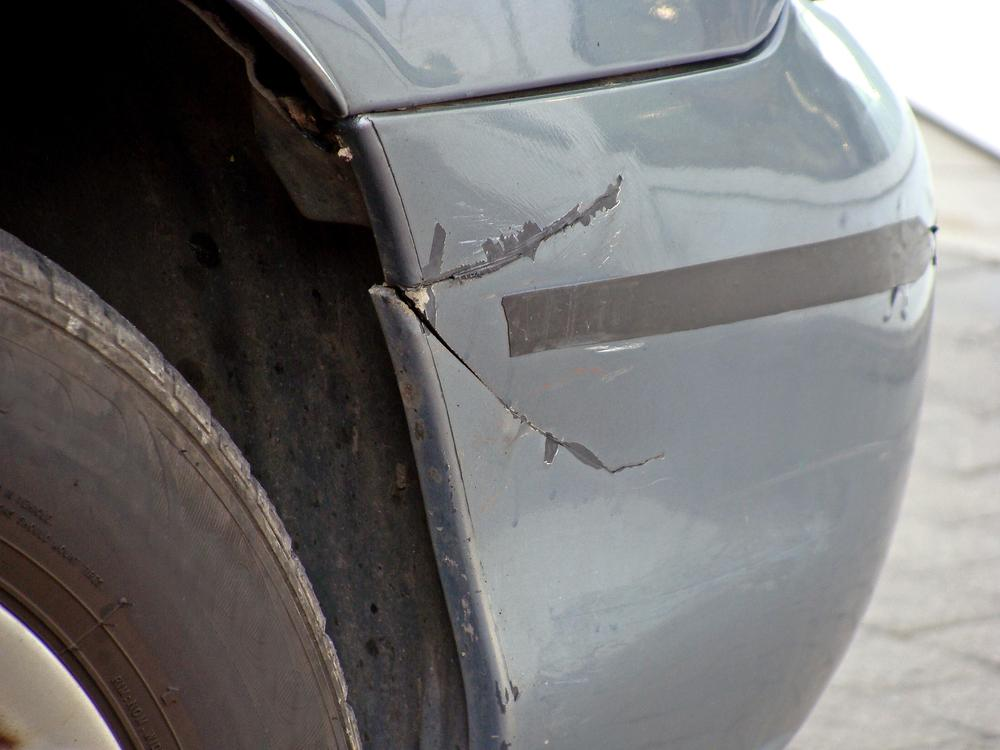crack: (389, 176, 673, 477)
